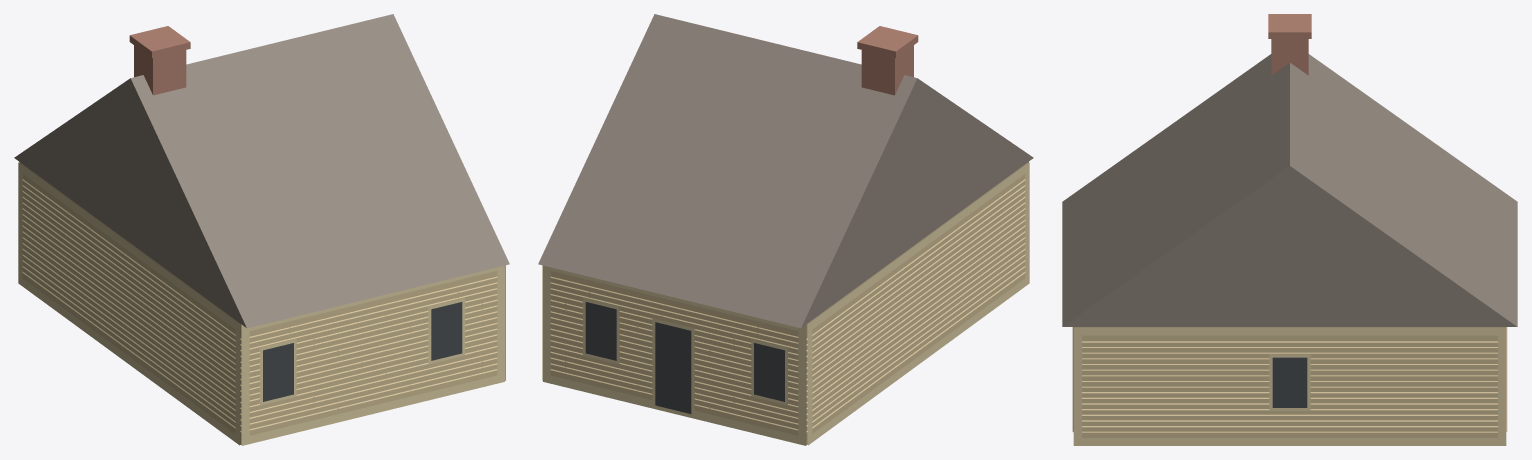
File: recon_1835_blk_south_water_clark_d5_01__inferred_1835.glb
The picture shows the model from 3 angles, left to right: view 1: azimuth 30°, elevation 25°; view 2: azimuth 150°, elevation 25°; view 3: azimuth 270°, elevation 25°; orthographic projection. The views are drawn at different scales.
Visible parts, largest first — view 1: recon_1835_blk_south_water_clark_d5_01__inferred_1835; view 2: recon_1835_blk_south_water_clark_d5_01__inferred_1835; view 3: recon_1835_blk_south_water_clark_d5_01__inferred_1835.
Boxes of the visible parts, x1=… form: recon_1835_blk_south_water_clark_d5_01__inferred_1835: x1=14, y1=14, x2=509, y2=445; recon_1835_blk_south_water_clark_d5_01__inferred_1835: x1=538, y1=14, x2=1033, y2=445; recon_1835_blk_south_water_clark_d5_01__inferred_1835: x1=1062, y1=14, x2=1517, y2=445.
Size of the model in its own units: 6.75 by 7.71 by 10.23.
